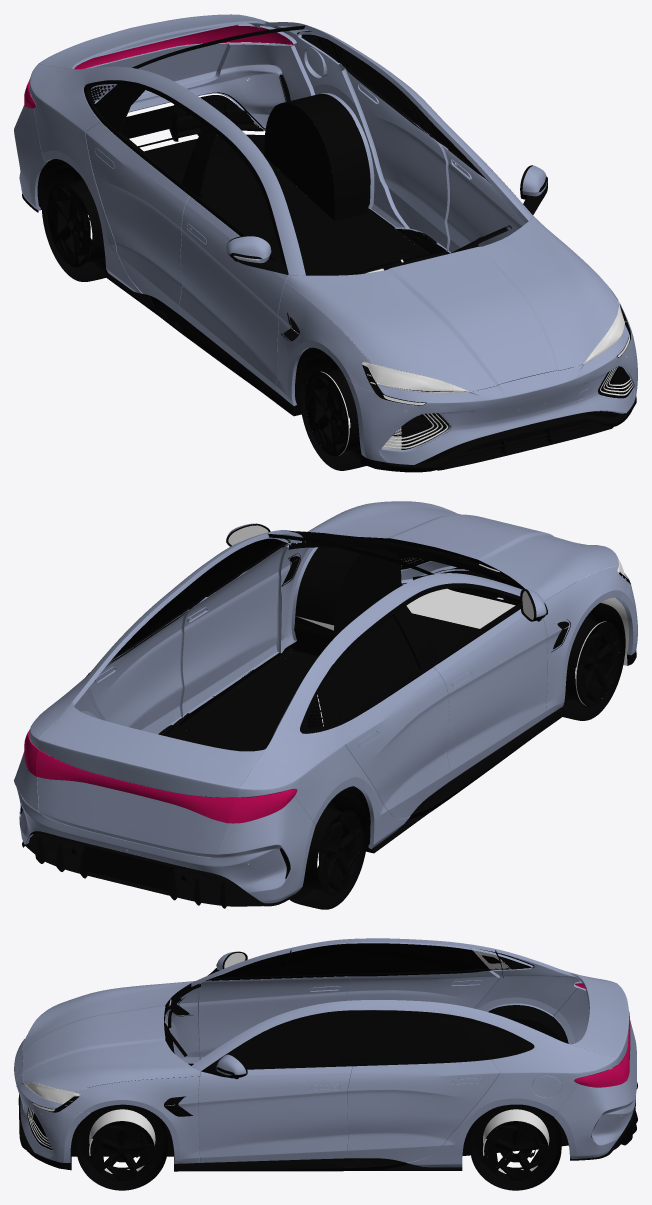
File: seal.glb
3 renders of one model, top to bottom at view 1: azimuth 30°, elevation 25°; view 2: azimuth 150°, elevation 25°; view 3: azimuth 270°, elevation 25°, orthographic. The views are drawn at different scales.
Parts seen in each view (by area): view 1: bumper, door_r, roof, door_l, tire; view 2: door_r, bumper, door_l, roof, tire; view 3: door_l, door_r, roof, bumper, tire.
Boxes of the visible parts, bbox=[...] form: bumper: bbox=[14, 25, 637, 472]; door_r: bbox=[29, 63, 374, 416]; roof: bbox=[39, 14, 620, 392]; door_l: bbox=[237, 15, 629, 328]; tire: bbox=[41, 134, 449, 470]; door_r: bbox=[237, 566, 630, 853]; bumper: bbox=[14, 547, 637, 908]; door_l: bbox=[28, 512, 341, 755]; roof: bbox=[38, 501, 618, 797]; tire: bbox=[29, 603, 625, 909]; door_l: bbox=[61, 1000, 617, 1171]; door_r: bbox=[164, 938, 615, 1065]; roof: bbox=[22, 949, 629, 1104]; bumper: bbox=[14, 983, 637, 1170]; tire: bbox=[76, 1069, 621, 1190].
Bounding box in the file's own units: 0.0835 × 0.0579 × 0.1867.
